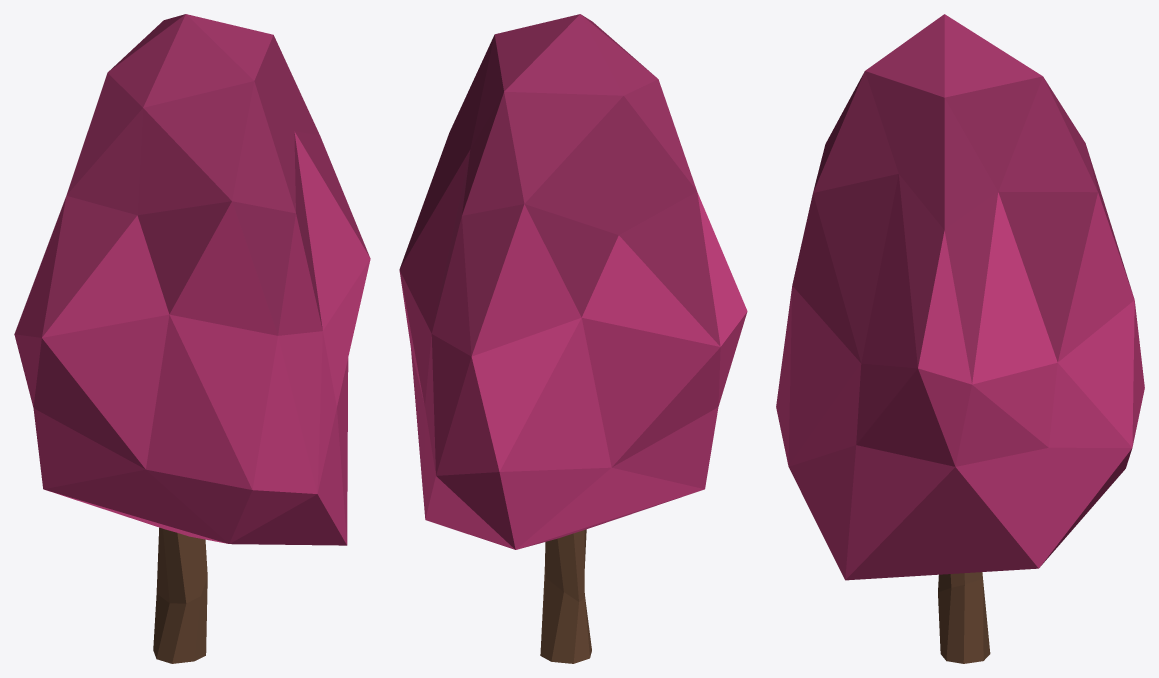
Rendered from Tree_59_Pink.fbx.
3 views of the same model, side by side, from view 1: azimuth 30°, elevation 25°; view 2: azimuth 150°, elevation 25°; view 3: azimuth 270°, elevation 25° (orthographic). The views are drawn at different scales.
Parts seen in each view (by area): view 1: Tree_59_Pink_Part_1, Tree_59_Pink_Part_2; view 2: Tree_59_Pink_Part_1, Tree_59_Pink_Part_2; view 3: Tree_59_Pink_Part_1, Tree_59_Pink_Part_2.
Boxes of the visible parts, <box> form: Tree_59_Pink_Part_1: <box>14,14,370,545</box>; Tree_59_Pink_Part_2: <box>153,527,207,663</box>; Tree_59_Pink_Part_1: <box>399,14,747,549</box>; Tree_59_Pink_Part_2: <box>540,529,591,663</box>; Tree_59_Pink_Part_1: <box>776,14,1144,580</box>; Tree_59_Pink_Part_2: <box>938,572,990,663</box>.
Bounding box in the file's own units: 425 × 800 × 420.
